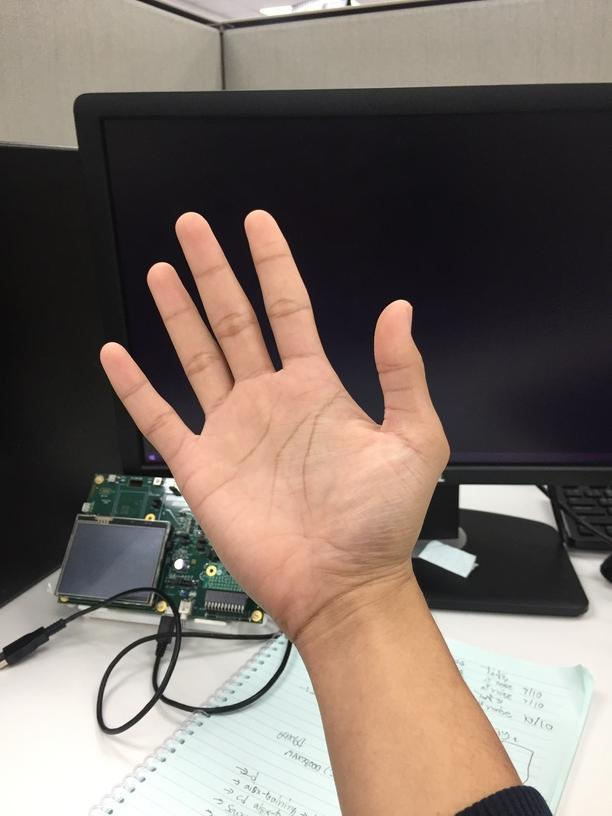hand: (98, 202, 454, 614)
